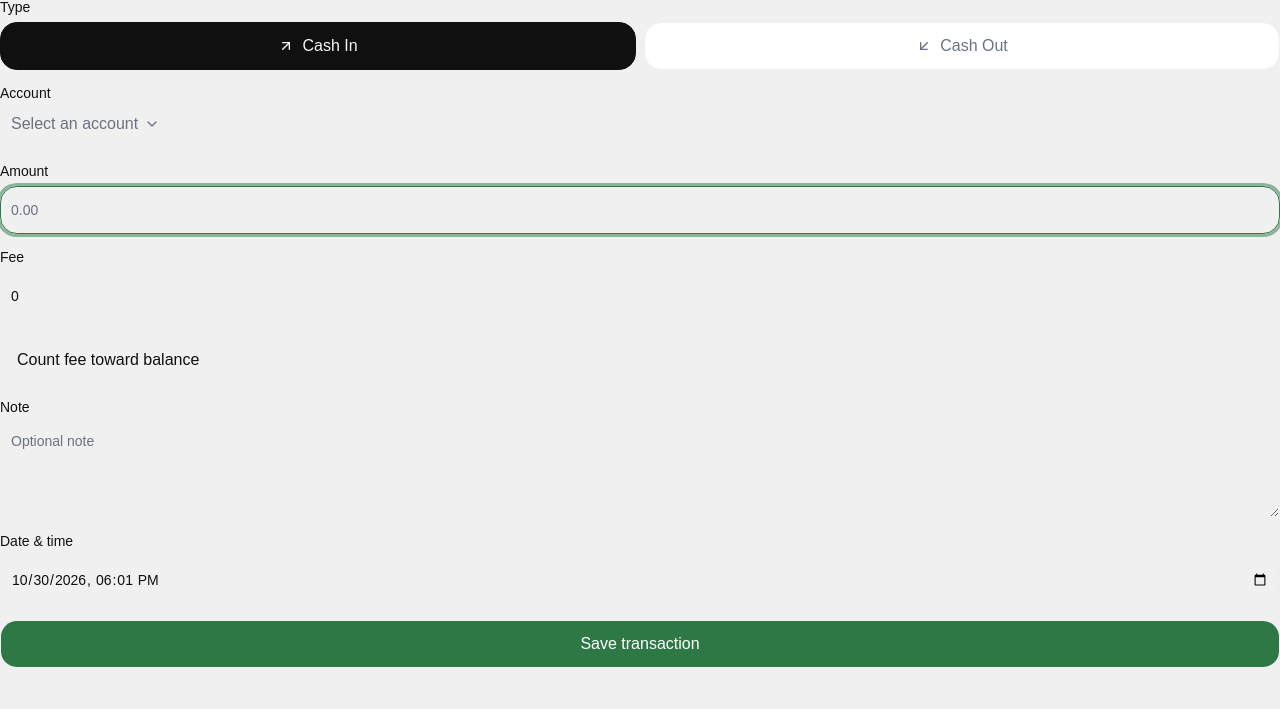
Test case: TransactionForm balance checks › shows a low balance warning while typing, before submitting
Click the button "Cash In" at point(318, 46), box [0,22,636,70]
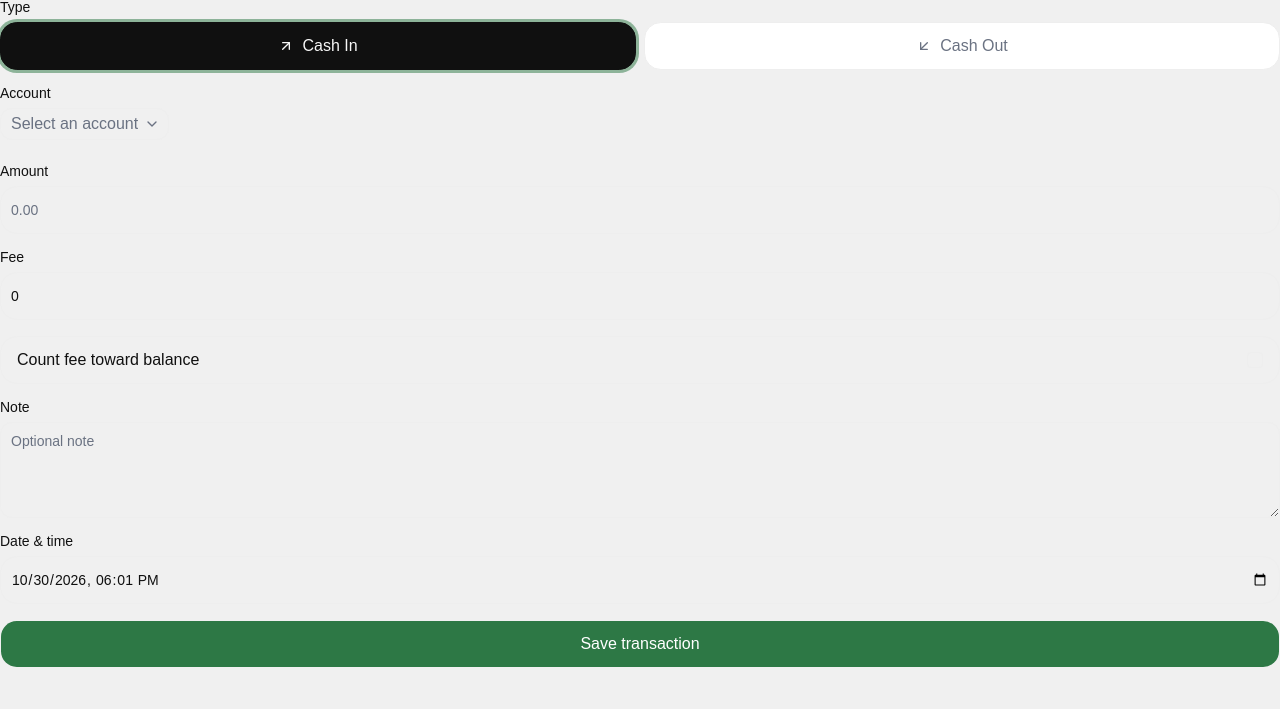
Click the dropdown labelled "account" at point(85, 124), box [0,108,169,140]
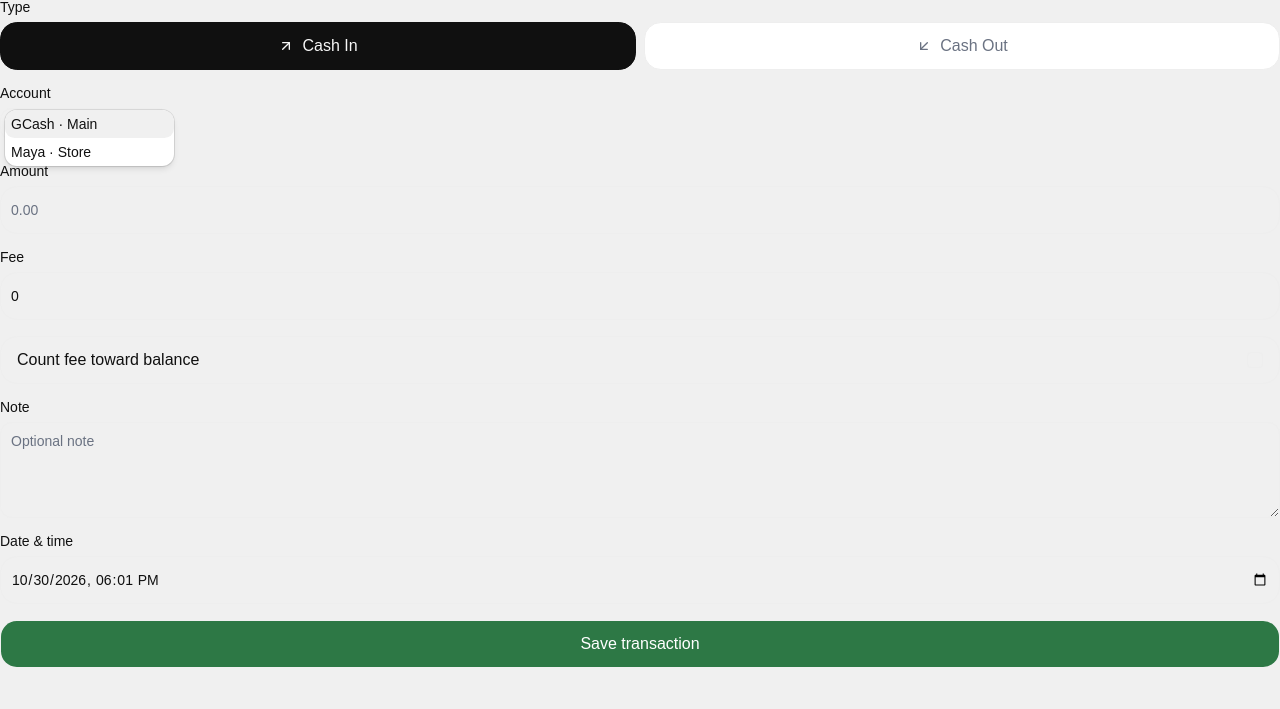
Click the option "GCash · Main" at point(90, 124), box [5,110,174,138]
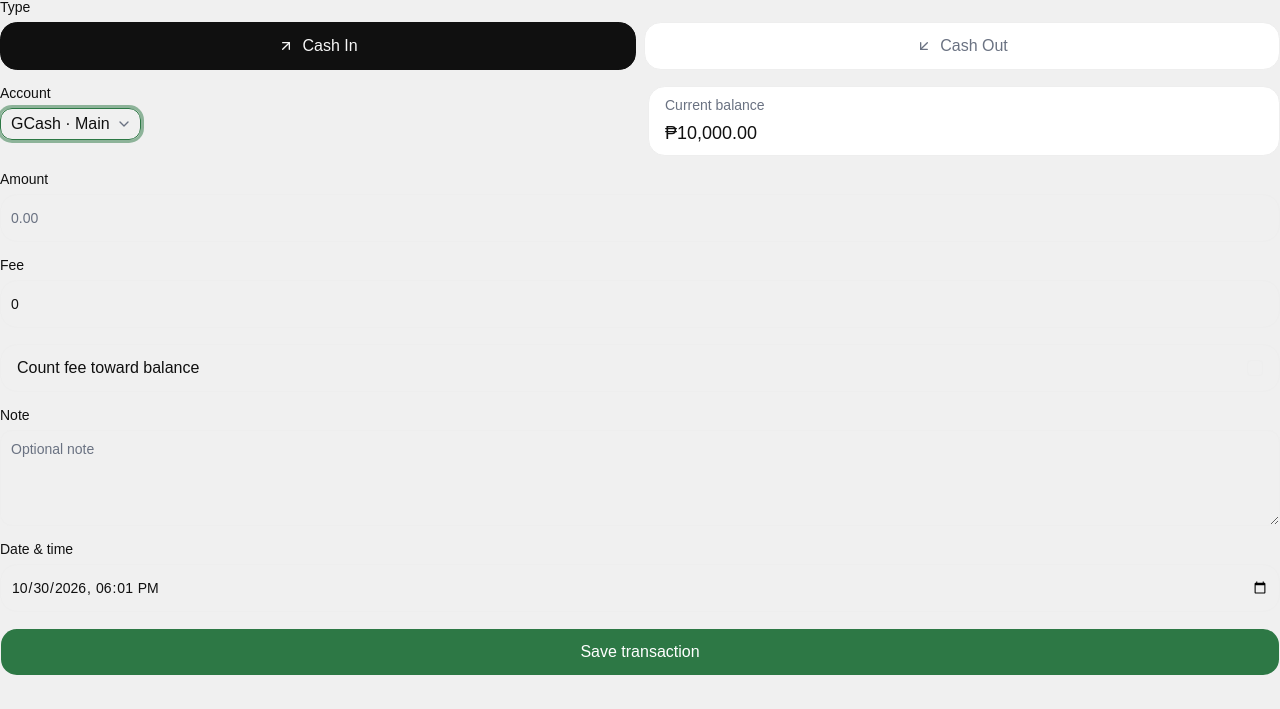
Type "12000" into the field labelled "Amount" at point(640, 218), box [0,194,1279,242]
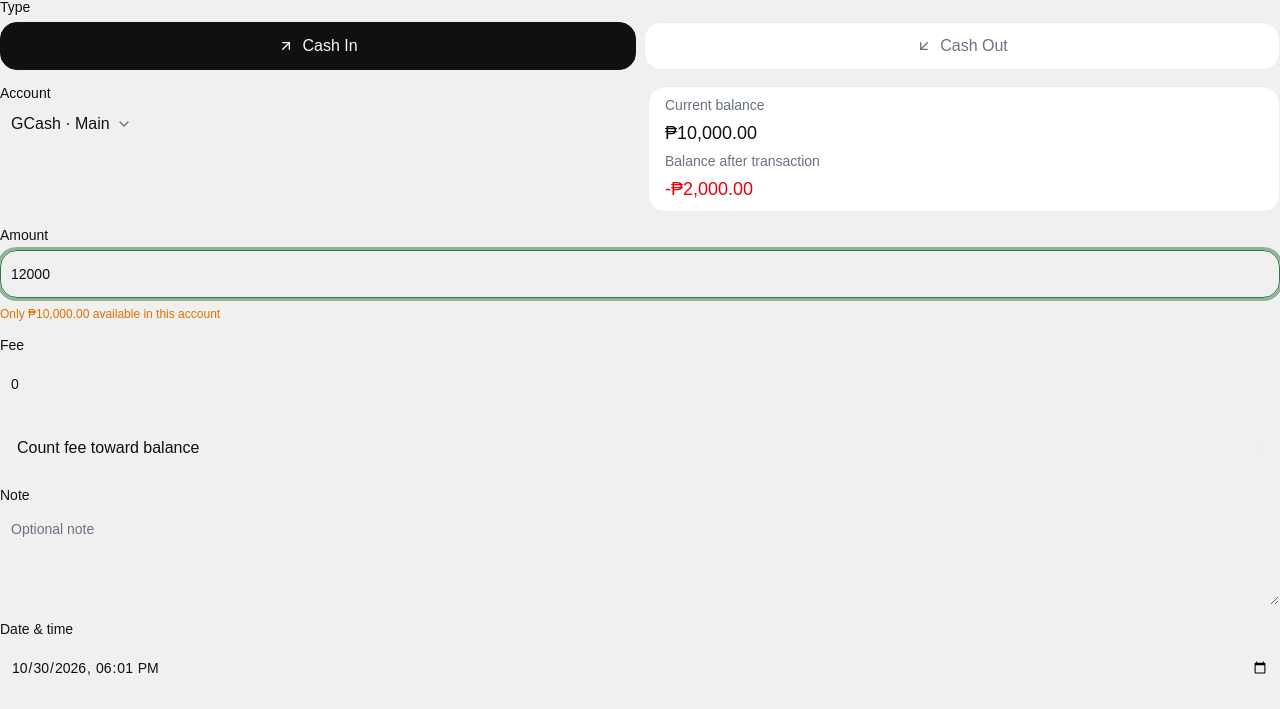
Expected: the text "Only ₱10,000.00 available in this account" is shown, [0,307,220,321]
